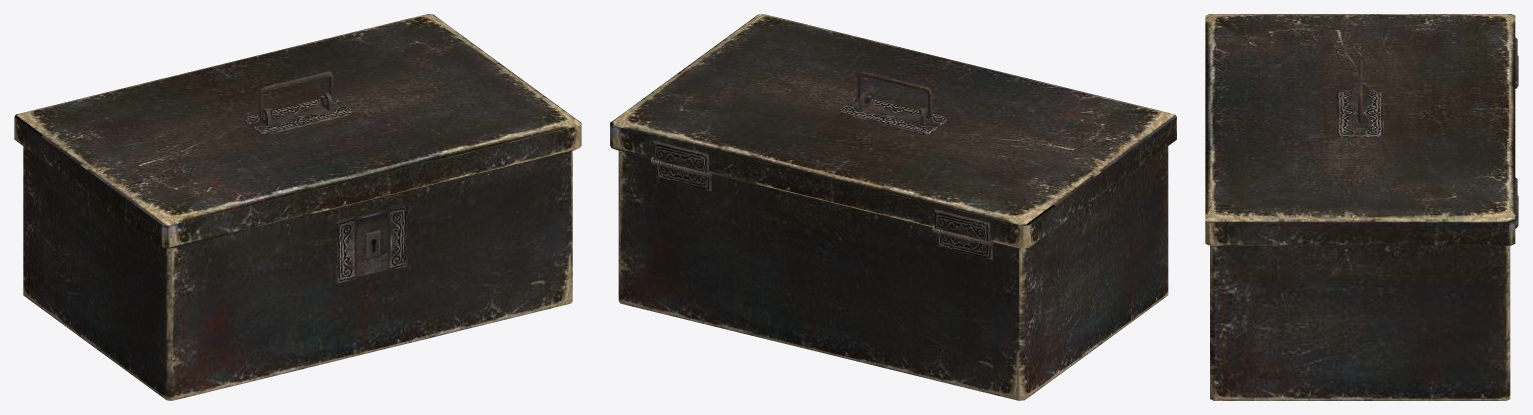
The model's file is box-wooden.glb.
3 views of the same model, side by side, from view 1: azimuth 30°, elevation 25°; view 2: azimuth 150°, elevation 25°; view 3: azimuth 270°, elevation 25° (orthographic).
Visible parts, largest first — view 1: box-wooden; view 2: box-wooden; view 3: box-wooden.
Boxes of the visible parts, x1,y1,x2,y2 form: box-wooden: (14, 14, 581, 400); box-wooden: (610, 14, 1176, 400); box-wooden: (1205, 14, 1518, 400).
Bounding box in the file's own units: 0.5102 × 0.2555 × 0.3242.
Materials: 1 (1 with a texture image).
